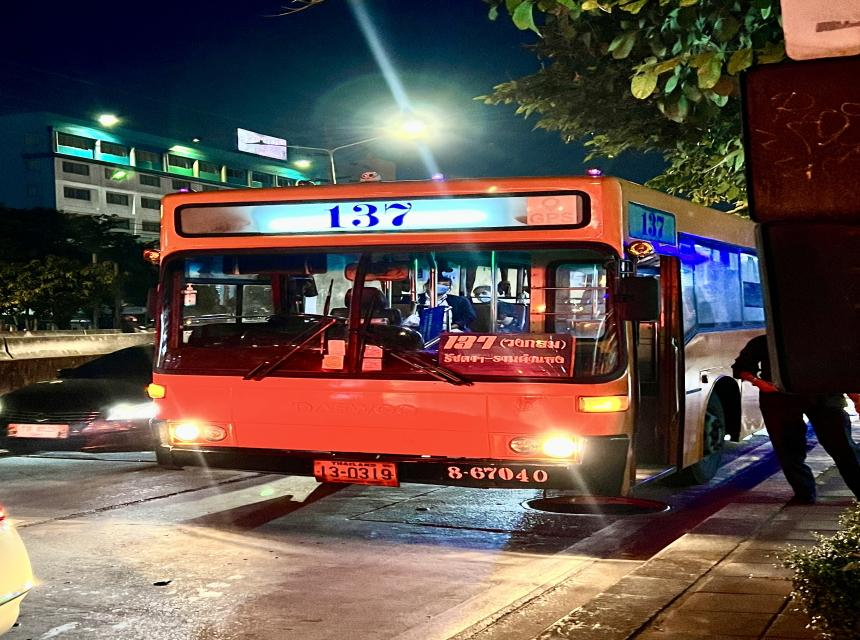BMTA-bus: (145, 176, 769, 499)
Bus Line Number: (300, 202, 439, 232)
Bus Side Number: (444, 462, 561, 490)
Destination Sign: (436, 330, 573, 380)
